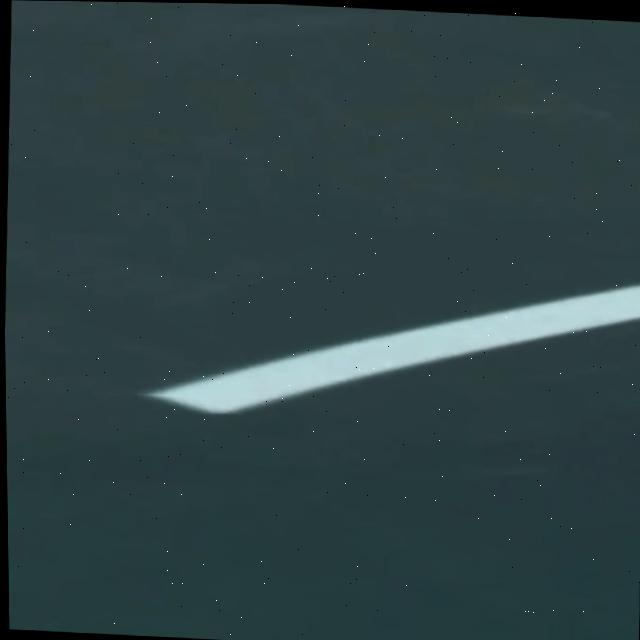center: (147, 285, 640, 412)
